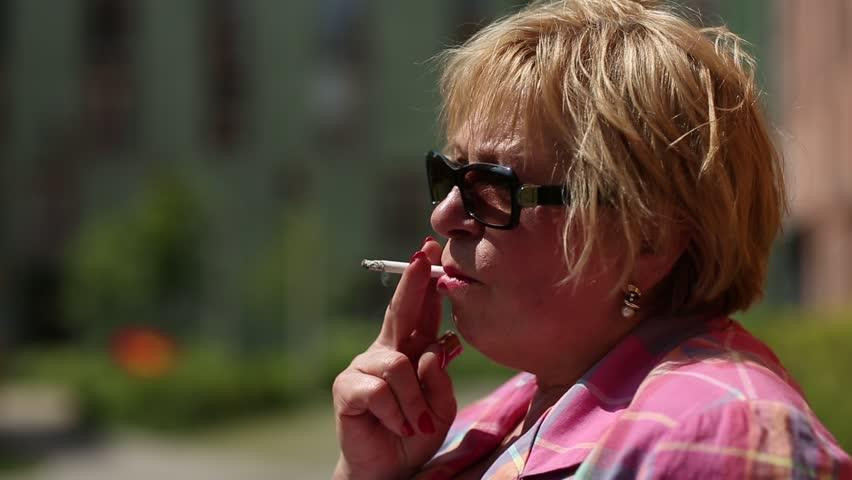cigarette: (358, 257, 451, 278)
